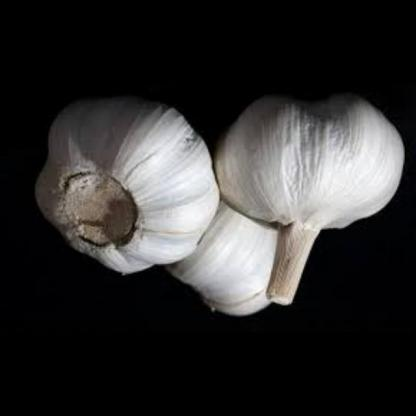garlic: (218, 93, 406, 310), (34, 99, 216, 277), (172, 200, 292, 320)
